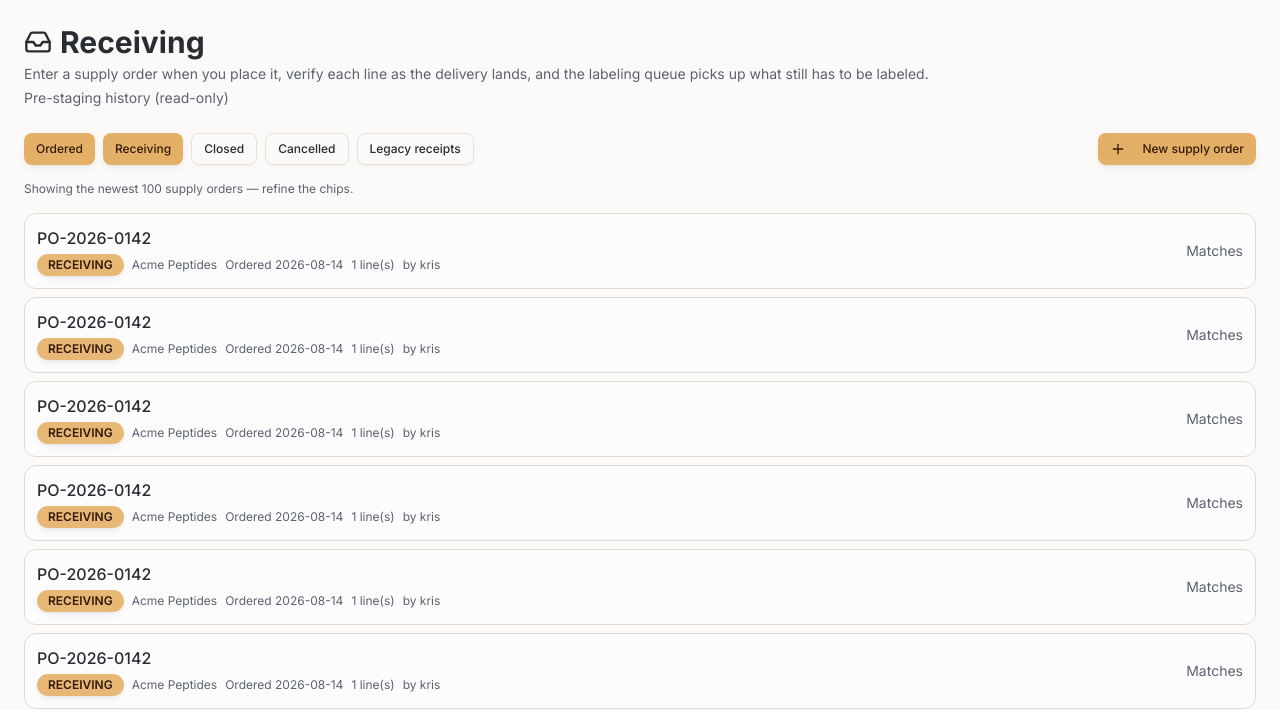
Test: FD2-2: 100 + 100 states BOTH bounds, one per family
This screenshot has width=1280, height=710.
Expected: the text "Showing the newest 100 supply orders — refine the chips." is shown, [24,181,353,196]
Click the button "Legacy receipts".
click(415, 149)  # box [356,133,474,165]
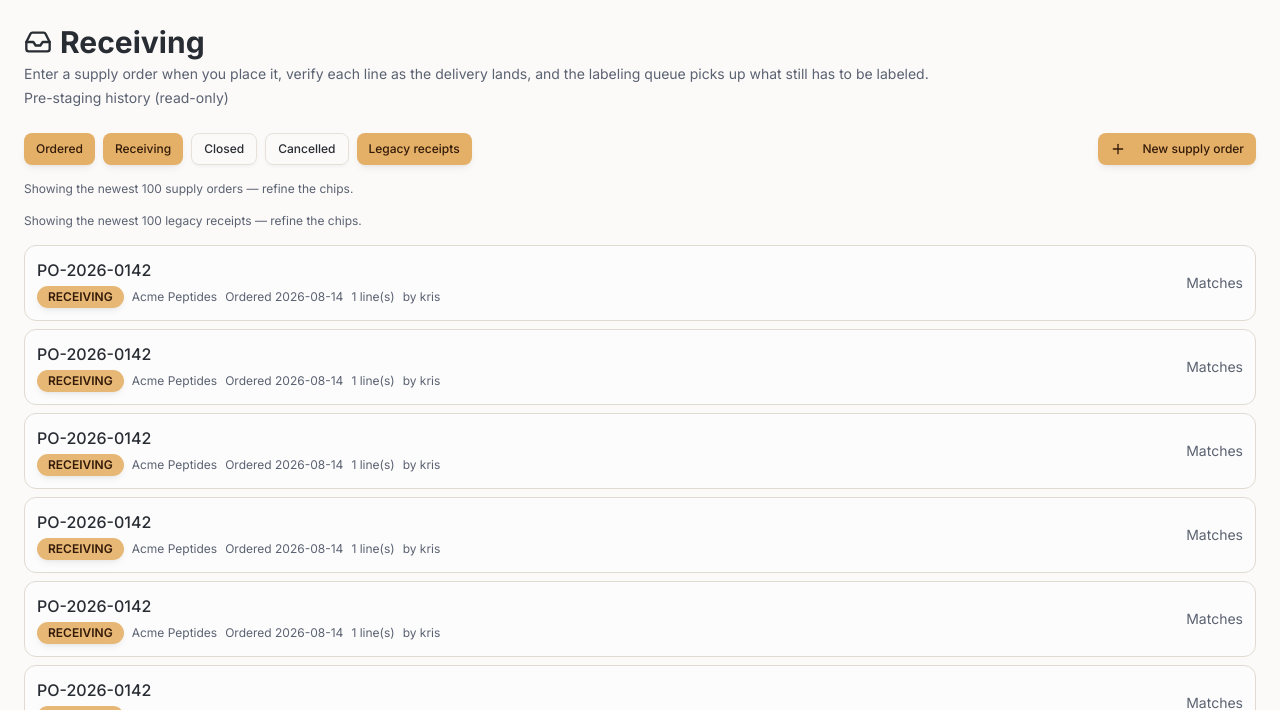
Expected: the text "Showing the newest 100 supply orders — refine the chips." is shown, [24,181,353,196]
Result: the text with test id "shipment-list-truncated-legacy" reads "Showing the newest 100 legacy receipts — refine the chips." at [24,213,362,228]
